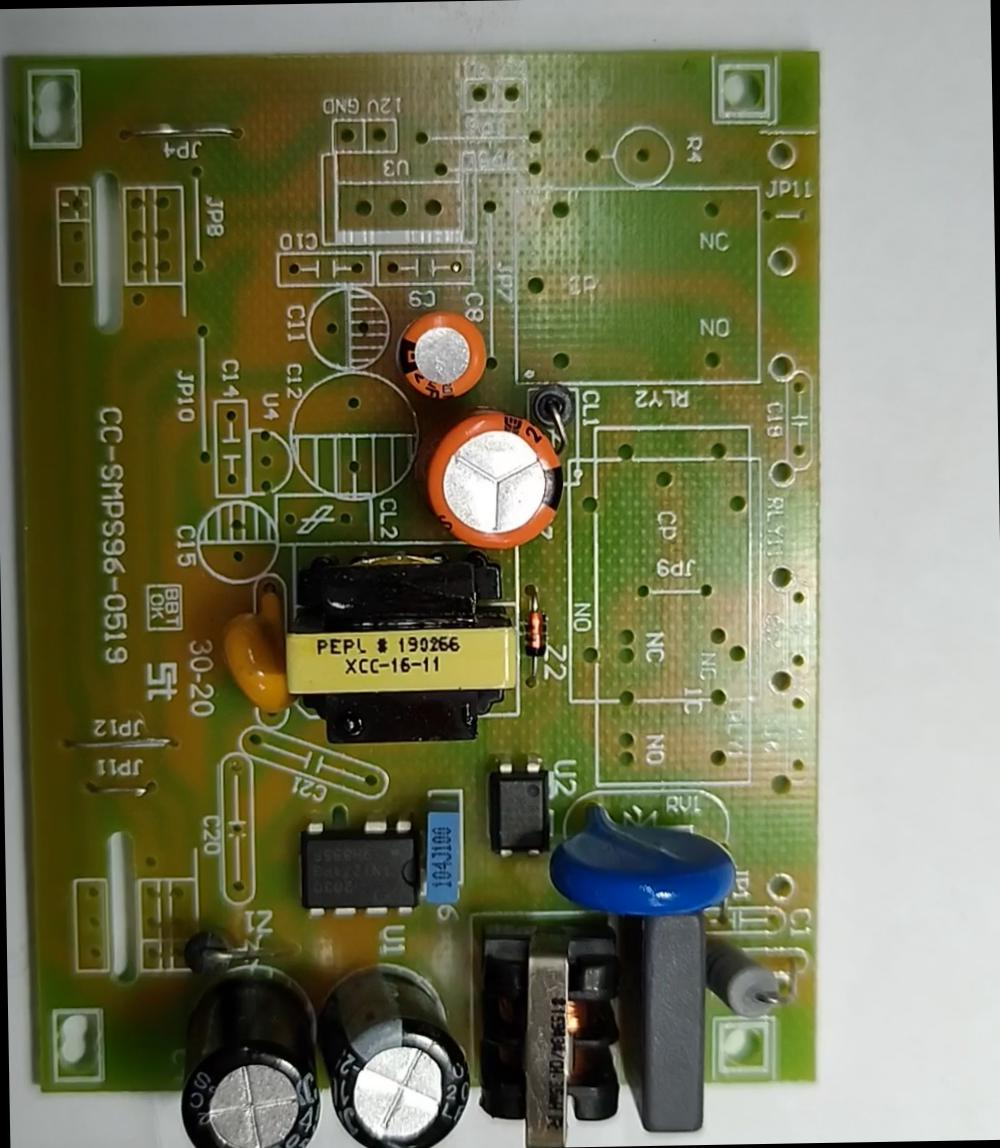Cap1: (419, 400, 573, 554)
Cap2: (393, 302, 487, 405)
Cap3: (316, 959, 480, 1147)
Cap4: (172, 962, 326, 1147)
MOSFET: (299, 820, 423, 915)
Mov: (546, 790, 744, 923)
Resistor: (698, 936, 780, 1024)
Transformer: (279, 547, 525, 752), (478, 924, 628, 1148)
